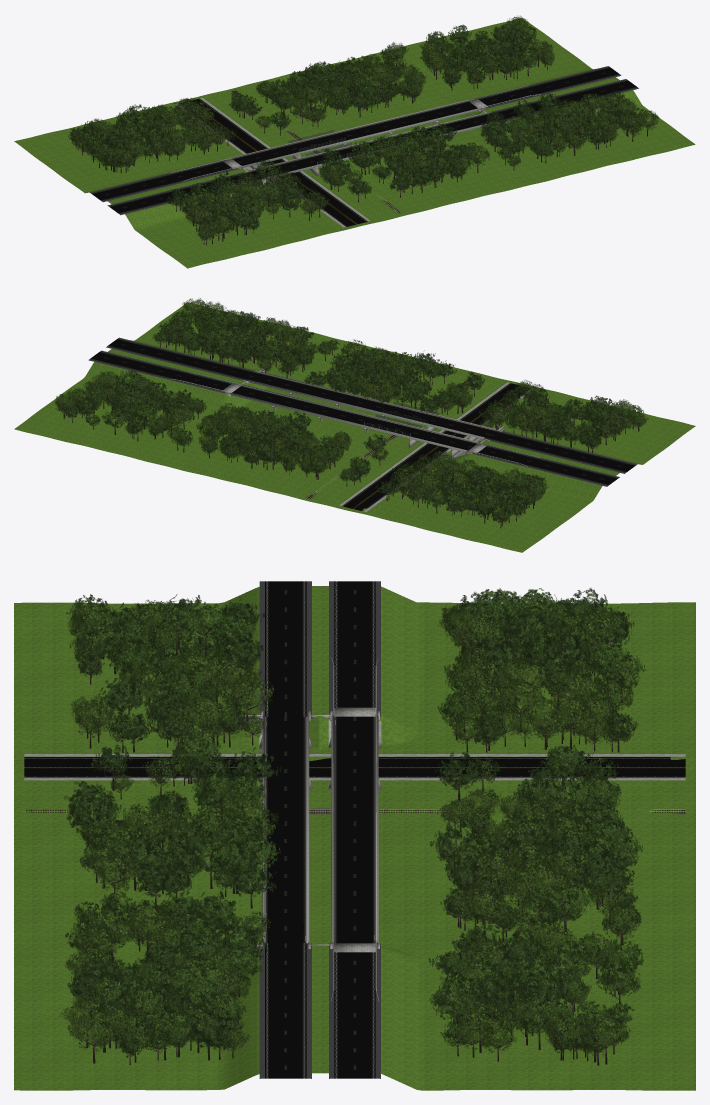
The model's file is bridge_19027.glb.
3 renders of one model, top to bottom at view 1: azimuth 30°, elevation 25°; view 2: azimuth 150°, elevation 25°; view 3: azimuth 270°, elevation 25°, orthographic. The views are drawn at different scales.
Visible parts, largest first — view 1: TerrainOuter, TerrainInner, Road_9thSt, DeckSurface, DeckSurface.001, Approach1, Approach0, Approach1.001, Approach0.001, Parapet_R, Parapet_L, Sidewalk1 (+1 smaller); view 2: TerrainOuter, TerrainInner, Road_9thSt, DeckSurface.001, DeckSurface, Approach0.001, Approach1.001, Approach1, Approach0, Parapet_L, Parapet_L.001, Parapet_R (+2 smaller); view 3: TerrainOuter, TreeLeaves1 (×30), TerrainInner, TreeLeaves0 (×29), TreeLeaves2 (×25), DeckSurface, DeckSurface.001, Road_9thSt, Approach1.001, Approach0.001, Approach0, Approach1 (+7 smaller).
Part boxes in pixels (box(x1,y1,x2,y2)): TerrainOuter: box(14, 18, 695, 268); TerrainInner: box(165, 82, 543, 200); Road_9thSt: box(181, 98, 367, 226); DeckSurface: box(232, 101, 477, 166); DeckSurface.001: box(250, 114, 492, 178); Approach1: box(478, 67, 619, 106); Approach0: box(91, 161, 232, 200); Approach1.001: box(486, 80, 637, 120); Approach0.001: box(109, 172, 258, 213); Parapet_R: box(243, 108, 479, 167); Parapet_L: box(231, 100, 468, 158); Sidewalk1: box(200, 97, 370, 221); TerrainOuter: box(14, 302, 695, 552); TerrainInner: box(170, 363, 540, 487); Road_9thSt: box(342, 383, 530, 510); DeckSurface.001: box(250, 373, 494, 437); DeckSurface: box(232, 386, 477, 450); Approach0.001: box(485, 430, 636, 472); Approach1.001: box(107, 338, 258, 380); Approach1: box(90, 351, 231, 390); Approach0: box(477, 446, 618, 485); Parapet_L: box(230, 392, 466, 451); Parapet_L.001: box(248, 379, 484, 438); Parapet_R: box(241, 384, 478, 442); TerrainOuter: box(14, 586, 695, 1090); TreeLeaves1 (×30): box(60, 599, 641, 1051); TerrainInner: box(231, 677, 478, 999); TreeLeaves0 (×29): box(86, 600, 645, 1044); TreeLeaves2 (×25): box(63, 588, 620, 1047); DeckSurface: box(334, 716, 375, 943); DeckSurface.001: box(265, 716, 306, 943); Road_9thSt: box(24, 757, 685, 777); Approach1.001: box(265, 943, 306, 1078); Approach0.001: box(265, 581, 306, 716); Approach0: box(334, 581, 375, 707); Approach1: box(334, 952, 375, 1078).
Bounding box in the file's own units: 1139 × 71.13 × 660.
Materials: 20 (18 with a texture image).
